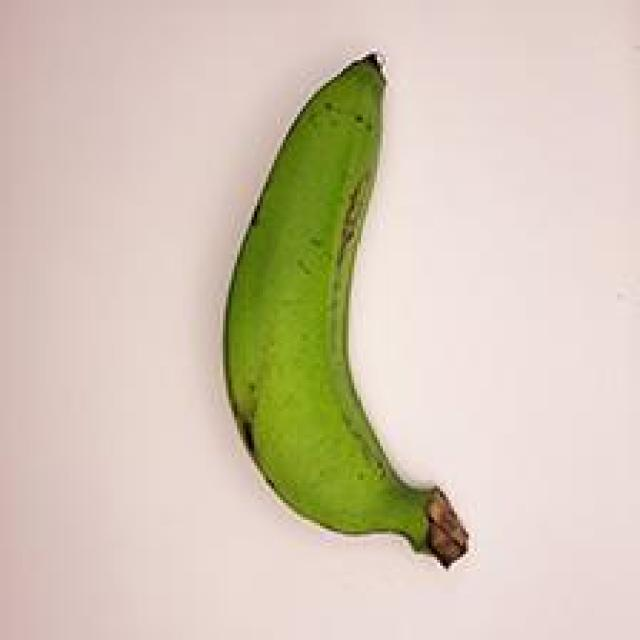Raw: (205, 31, 484, 582)
